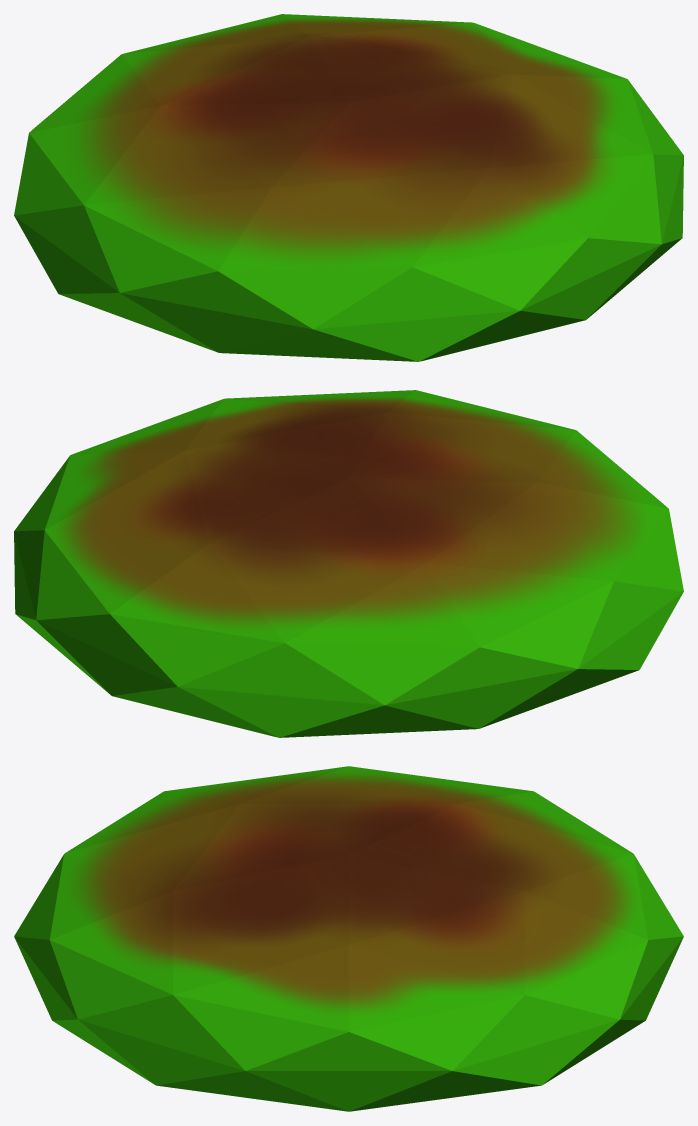
File: island.glb
The picture shows the model from 3 angles, top to bottom: view 1: azimuth 30°, elevation 25°; view 2: azimuth 150°, elevation 25°; view 3: azimuth 270°, elevation 25°; orthographic projection. The views are drawn at different scales.
Visible parts, largest first — view 1: Icosphere; view 2: Icosphere; view 3: Icosphere.
Part boxes in pixels (x1,y1,x2,y2): Icosphere: [14, 14, 683, 361]; Icosphere: [14, 390, 683, 737]; Icosphere: [14, 766, 683, 1111].
Size of the model in its own units: 7.16 by 2 by 7.42.
1 material, 1 textured.
